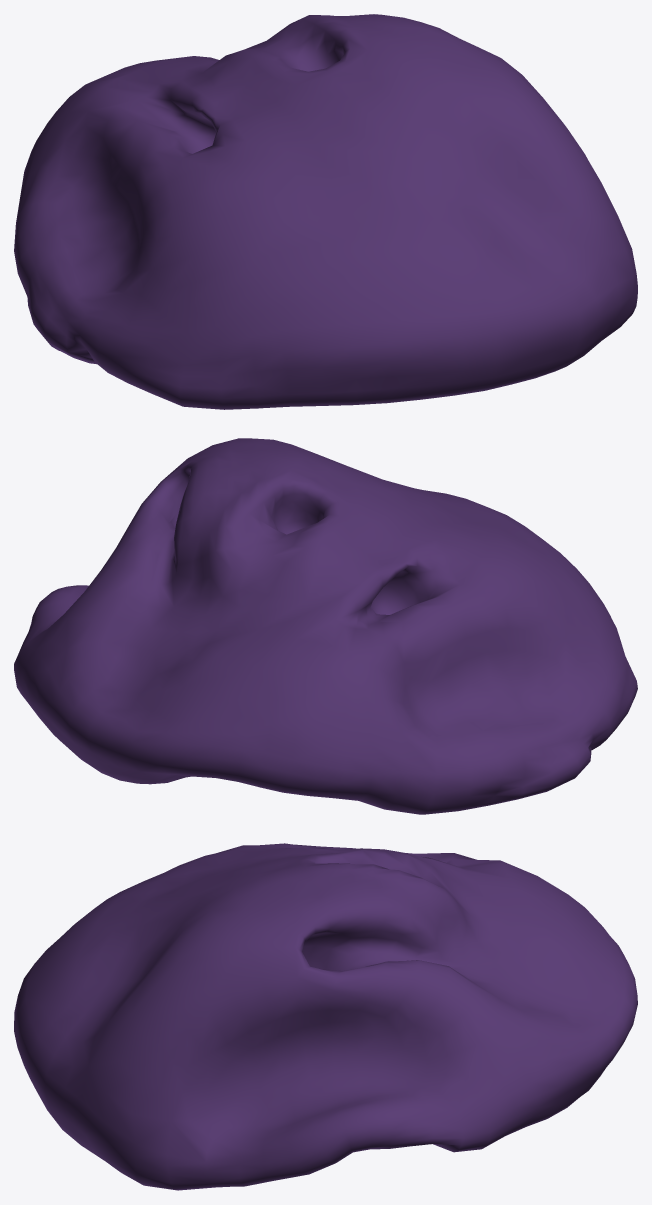
Rendered from geo_playdough.fbx.
The picture shows the model from 3 angles, top to bottom: view 1: azimuth 30°, elevation 25°; view 2: azimuth 150°, elevation 25°; view 3: azimuth 270°, elevation 25°; orthographic projection. The views are drawn at different scales.
Parts seen in each view (by area): view 1: UMesh_PM3D_Sphere3D_2; view 2: UMesh_PM3D_Sphere3D_2; view 3: UMesh_PM3D_Sphere3D_2.
Part boxes in pixels (left/top/right/bottom): UMesh_PM3D_Sphere3D_2: left=14, top=14, right=637, bottom=409; UMesh_PM3D_Sphere3D_2: left=14, top=438, right=637, bottom=814; UMesh_PM3D_Sphere3D_2: left=14, top=843, right=637, bottom=1190.
Bounding box in the file's own units: 190 × 89.88 × 198.
1 material, 1 textured.
